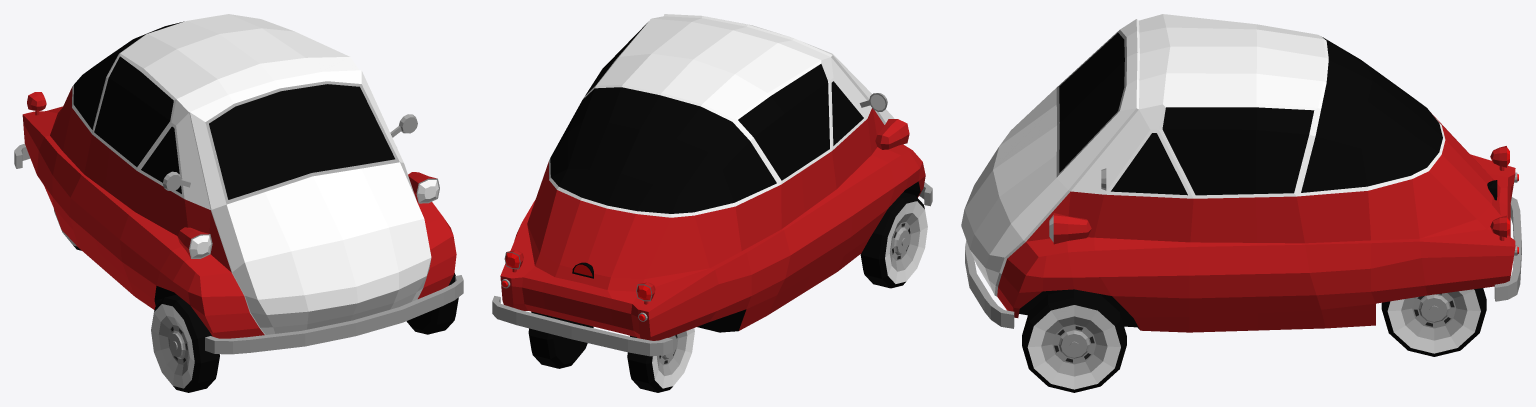
Rendered from WGX_EGG_CAR_01_BLUE.fbx.
The picture shows the model from 3 angles, left to right: view 1: azimuth 30°, elevation 25°; view 2: azimuth 150°, elevation 25°; view 3: azimuth 270°, elevation 25°; orthographic projection. The views are drawn at different scales.
Visible parts, largest first — view 1: Body, Front_Right_Wheel, Front_Left_Wheel; view 2: Body, Front_Right_Wheel, Rear_Right_Wheel, Rear_Left_Wheel; view 3: Body, Front_Left_Wheel, Rear_Left_Wheel.
Part boxes in pixels (x1,y1,x2,y2): Body: (14,14,463,354); Front_Right_Wheel: (151,294,219,392); Front_Left_Wheel: (406,273,458,334); Body: (492,14,932,356); Front_Right_Wheel: (860,192,927,288); Rear_Right_Wheel: (627,328,694,392); Rear_Left_Wheel: (528,311,593,368); Body: (961,14,1521,332); Front_Left_Wheel: (1022,289,1126,392); Rear_Left_Wheel: (1381,288,1486,356).
Bounding box in the file's own units: 1.4 × 1.32 × 2.4.
